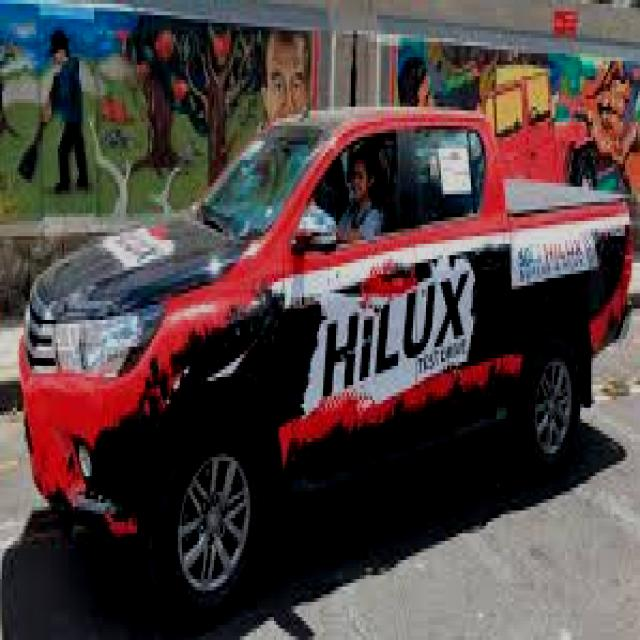CMT: (12, 102, 637, 595)
